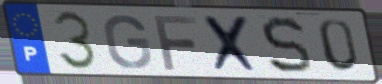0: (315, 18, 361, 75)
3: (50, 9, 99, 73)
F: (151, 13, 200, 73)
G: (101, 13, 154, 71)
S: (258, 14, 315, 76)
X: (200, 13, 264, 75)
